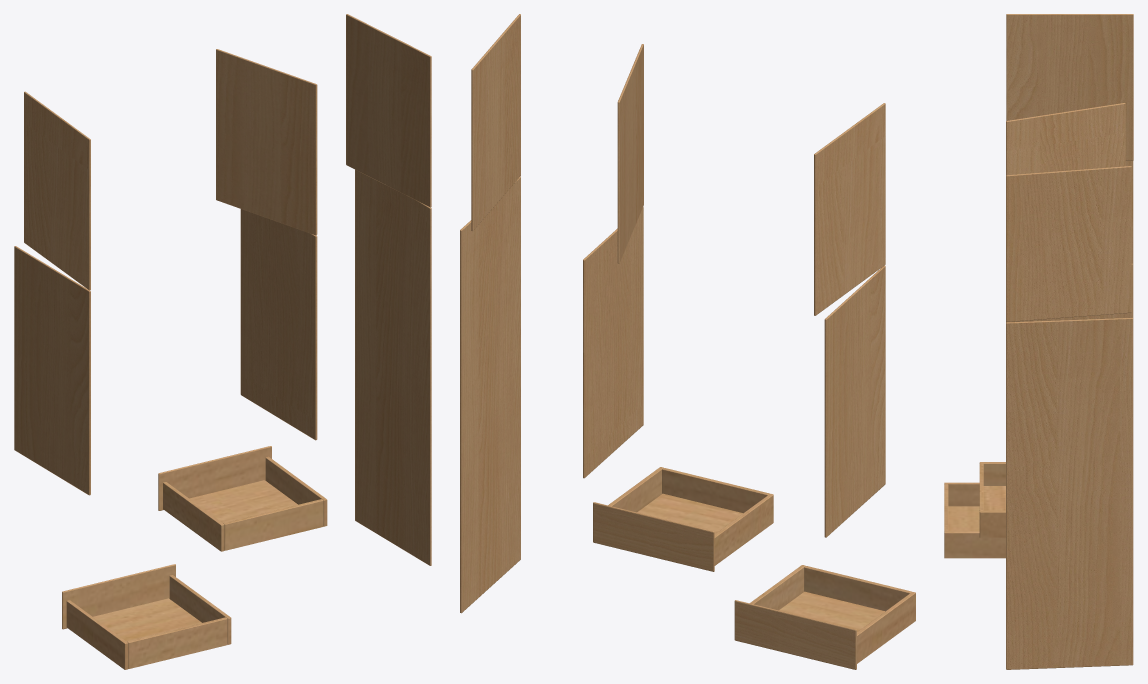
Rendered from lockerTypeThreeViewThree.gltf.
3 renders of one model, left to right at view 1: azimuth 30°, elevation 25°; view 2: azimuth 150°, elevation 25°; view 3: azimuth 270°, elevation 25°, orthographic. The views are drawn at different scales.
Parts seen in each view (by area): view 1: lockerTypeThreeViewThree; view 2: lockerTypeThreeViewThree; view 3: lockerTypeThreeViewThree.
Part boxes in pixels (x1,y1,x2,y2): lockerTypeThreeViewThree: (14,14,431,669); lockerTypeThreeViewThree: (460,14,915,669); lockerTypeThreeViewThree: (944,14,1133,669).
Size of the model in its own units: 1.95 by 2.7 by 0.938.
1 material, 1 textured.
